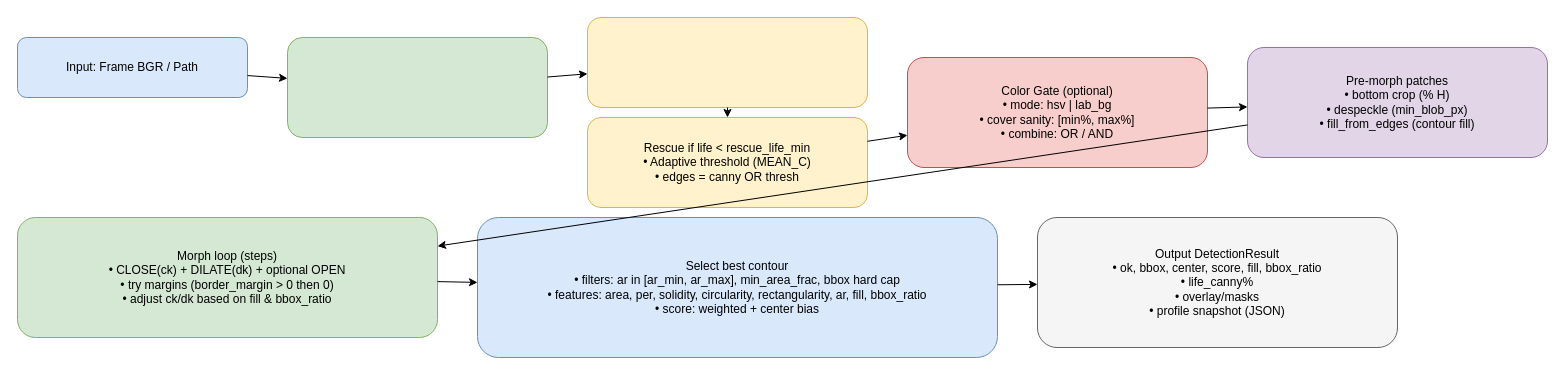
The diagram is 1565 pixels wide and 375 high, and some of its shapes have lost their labels. Here are the shapes that lost their labels. From the top down, the box of each, then its label:
(586, 16, 868, 108): Auto Canny (life in [life_min, life_max]) • iterate t1 • t2 = ratio*t1
(286, 36, 548, 138): Preprocess • resize to (proc_w, proc_h) • gray • Gaussian blur (k odd)
